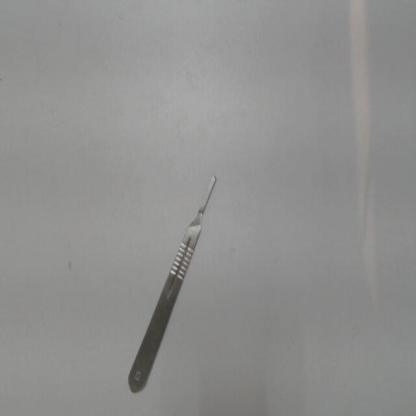No.4 BP Handle: (120, 168, 226, 406)
